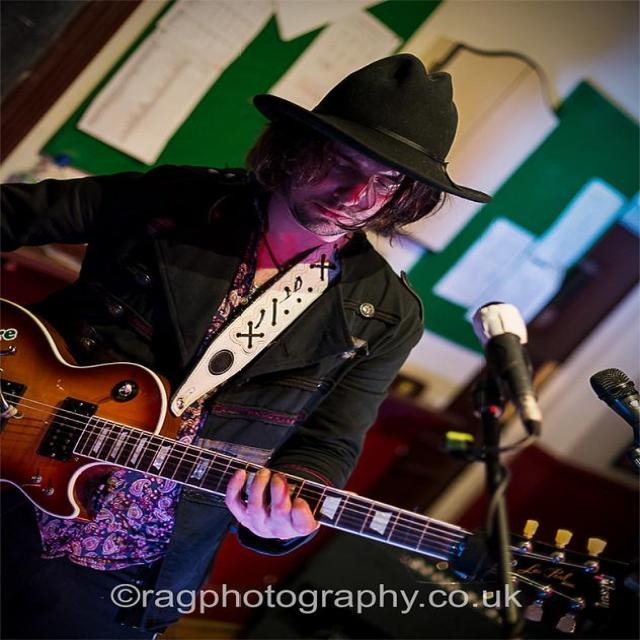guitar: (0, 302, 260, 519)
